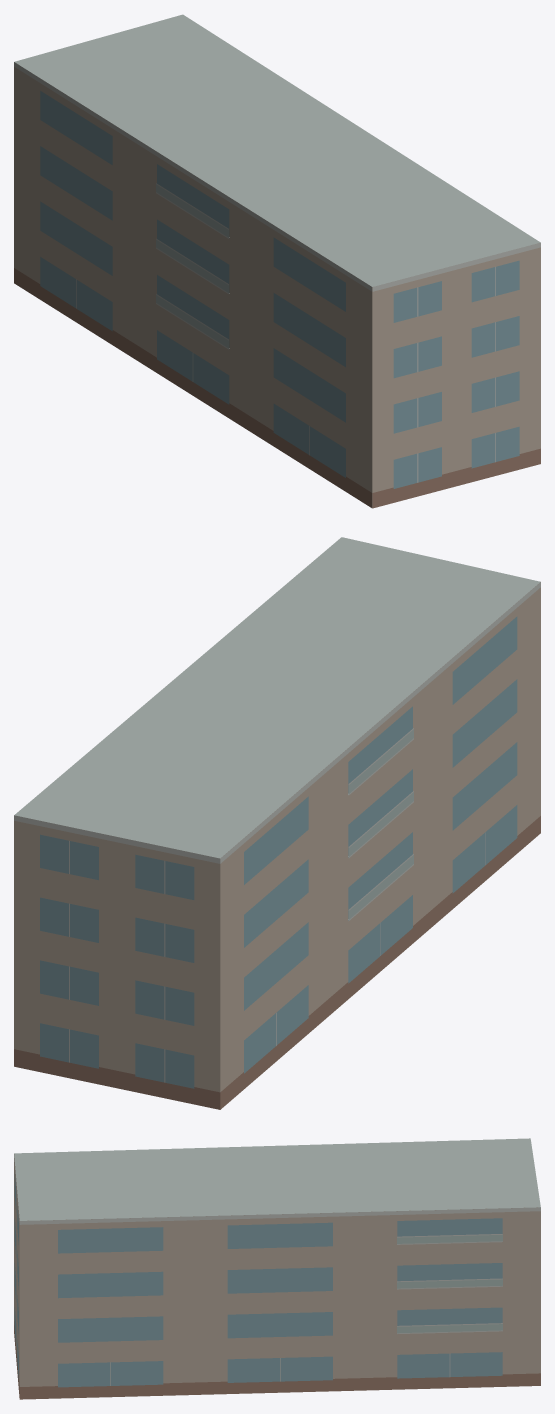
File: survey-upis-32804158.glb
The picture shows the model from 3 angles, top to bottom: view 1: azimuth 30°, elevation 25°; view 2: azimuth 150°, elevation 25°; view 3: azimuth 270°, elevation 25°; orthographic projection. The views are drawn at different scales.
Visible parts, largest first — view 1: survey-upis-32804158.tmp; view 2: survey-upis-32804158.tmp; view 3: survey-upis-32804158.tmp.
Boxes of the visible parts, left/top/right/bottom form: survey-upis-32804158.tmp: left=14, top=14, right=540, bottom=508; survey-upis-32804158.tmp: left=14, top=537, right=540, bottom=1109; survey-upis-32804158.tmp: left=14, top=1138, right=540, bottom=1399.
Size of the model in its own units: 11.22 by 11.3 by 30.23.
